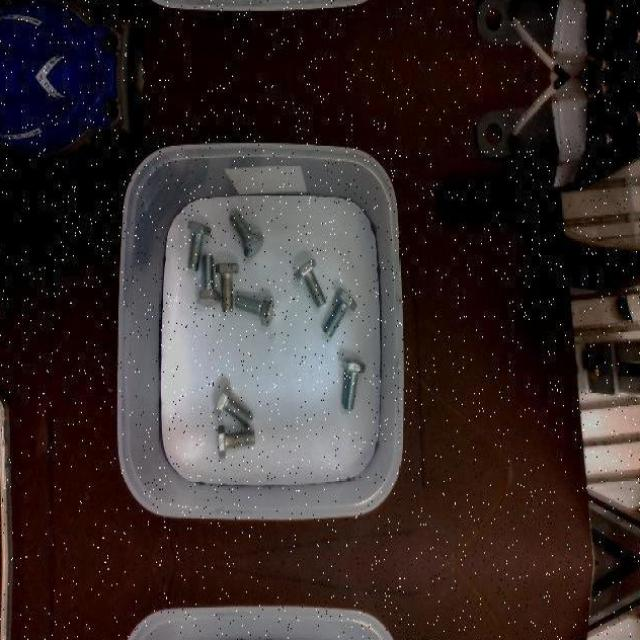screw: (323, 286, 358, 338), (214, 385, 254, 429), (295, 258, 327, 307), (230, 210, 264, 256), (196, 253, 221, 306), (218, 424, 256, 458), (235, 295, 275, 327), (188, 220, 213, 271), (342, 358, 367, 408), (216, 262, 240, 312)
